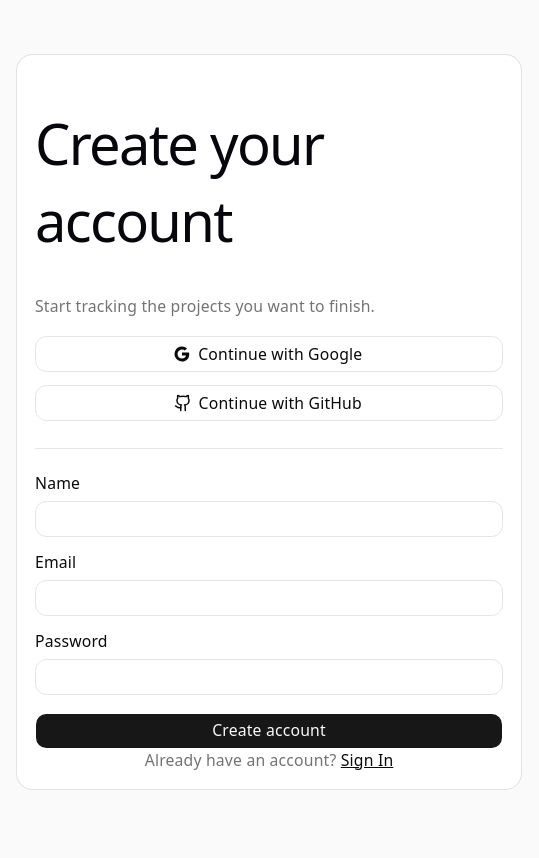
it: RegisterPage › shows inline validation errors
Type "not-an-email" into the field labelled "Email" at (269, 598), box x1=35 y1=580 x2=503 y2=616
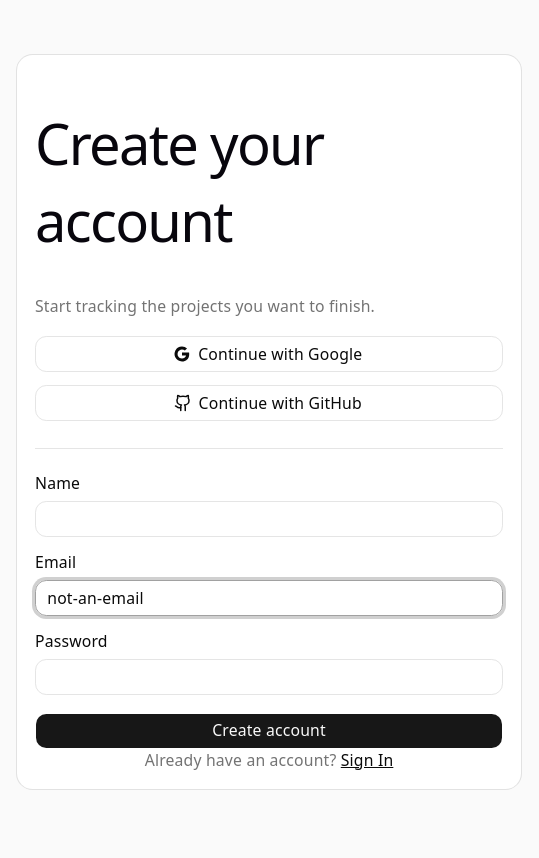
Type "short" into the password field labelled "Password" at (269, 677), box x1=35 y1=659 x2=503 y2=695
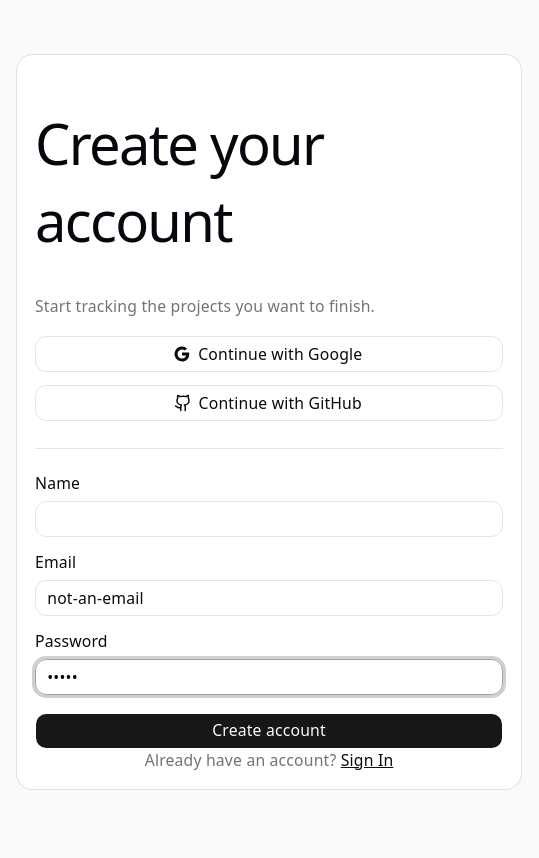
Click the button "Create account" at (269, 731), box x1=35 y1=713 x2=503 y2=749
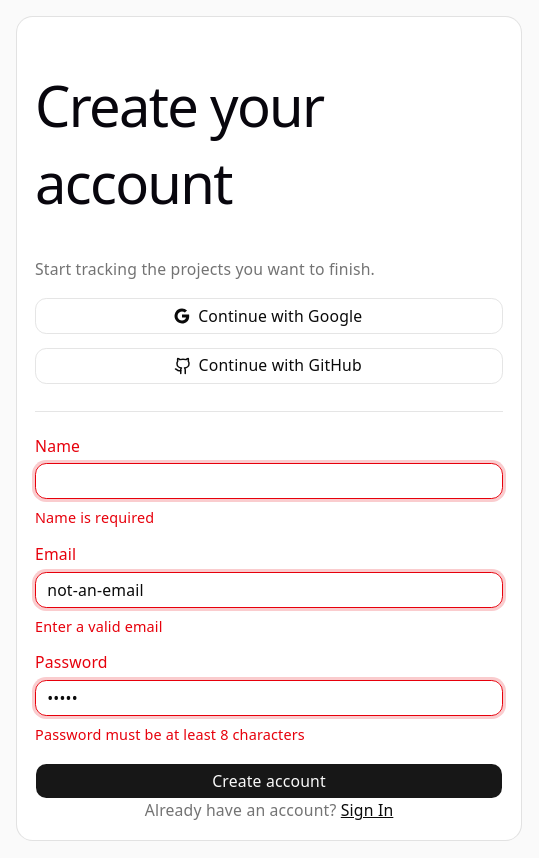
expect the text "Enter a valid email" is shown: met, box x1=35 y1=617 x2=163 y2=636
expect the text "Password must be at least 8 characters" is shown: met, box x1=35 y1=725 x2=305 y2=744
